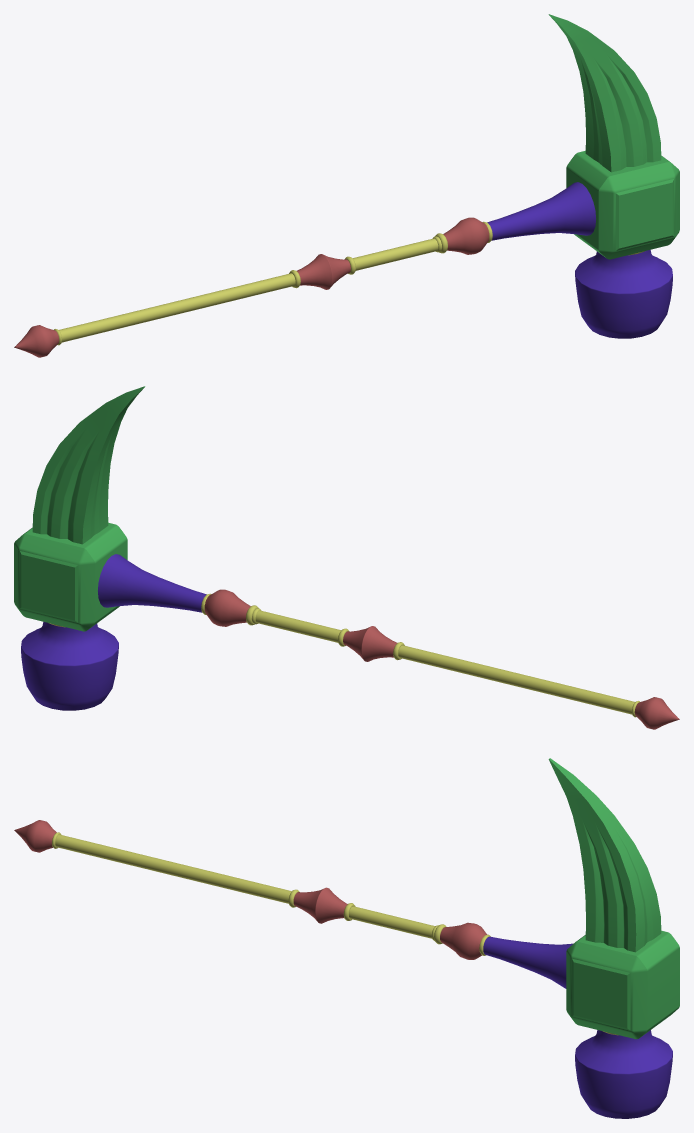
File: gideon.fbx
The picture shows the model from 3 angles, top to bottom: view 1: azimuth 30°, elevation 25°; view 2: azimuth 150°, elevation 25°; view 3: azimuth 330°, elevation 25°; orthographic projection.
Visible parts, largest first — view 1: polySurface35; view 2: polySurface35; view 3: polySurface35.
Boxes of the visible parts, box(x1,y1,x2,y2) form: polySurface35: box(14, 14, 679, 357); polySurface35: box(14, 386, 679, 729); polySurface35: box(14, 758, 679, 1118).
Bounding box in the file's own units: 14.61 × 6.99 × 1.91.
